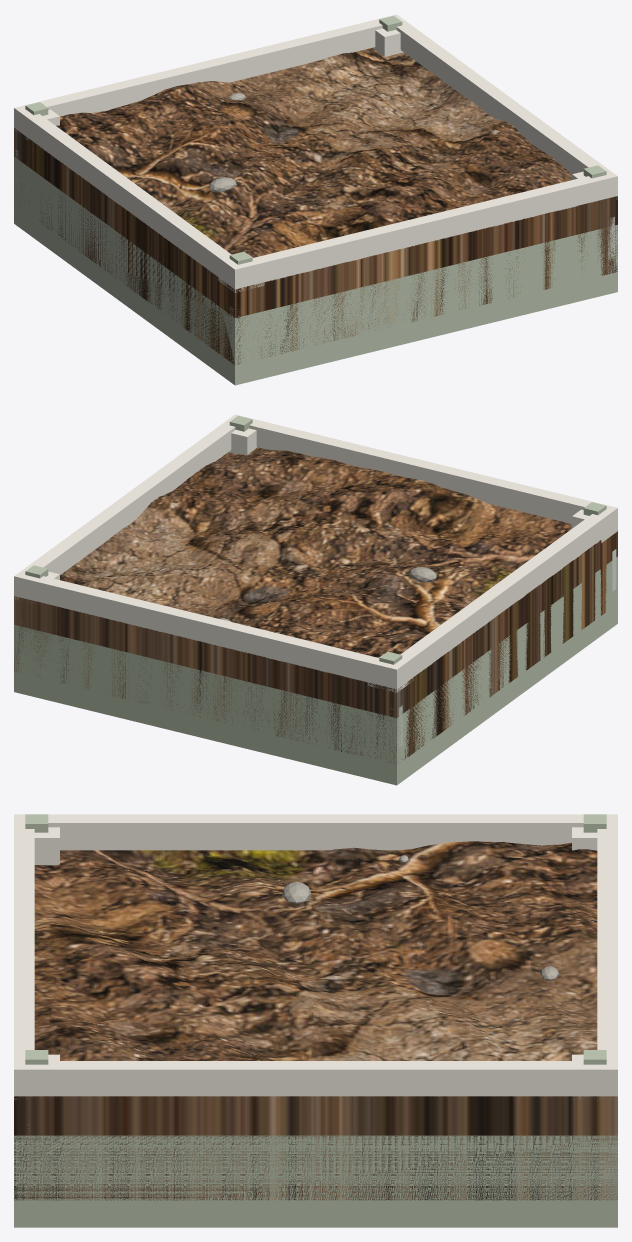
The model's file is s03-untreated-quarter-sw.glb.
3 views of the same model, one above another, from view 1: azimuth 30°, elevation 25°; view 2: azimuth 150°, elevation 25°; view 3: azimuth 270°, elevation 25° (orthographic). The views are drawn at different scales.
Parts seen in each view (by area): view 1: S03_Physical_Untreated_Soil_Top_RealRelief, S03_Frame_Sage_Solid_Bottom, S03_Cream_Rim_N, S03_Cream_Rim_S, S03_Cream_Rim_W, S03_Cream_Rim_E, S03_Cream_Protective_Corner_1_0; view 2: S03_Physical_Untreated_Soil_Top_RealRelief, S03_Frame_Sage_Solid_Bottom, S03_Cream_Rim_S, S03_Cream_Rim_N, S03_Cream_Rim_W, S03_Cream_Rim_E, S03_Cream_Protective_Corner_1_1, S03_Cream_Protective_Corner_0_1; view 3: S03_Physical_Untreated_Soil_Top_RealRelief, S03_Frame_Sage_Solid_Bottom, S03_Cream_Rim_E, S03_Cream_Rim_W, S03_Cream_Rim_S, S03_Cream_Rim_N, S03_Cream_Protective_Corner_0_1.
Boxes of the visible parts, x1=… form: S03_Physical_Untreated_Soil_Top_RealRelief: x1=14, y1=48, x2=617, y2=364; S03_Frame_Sage_Solid_Bottom: x1=14, y1=156, x2=617, y2=385; S03_Cream_Rim_N: x1=227, y1=173, x2=617, y2=289; S03_Cream_Rim_S: x1=14, y1=14, x2=403, y2=132; S03_Cream_Rim_W: x1=14, y1=105, x2=247, y2=288; S03_Cream_Rim_E: x1=384, y1=15, x2=617, y2=198; S03_Cream_Protective_Corner_1_0: x1=373, y1=28, x2=403, y2=56; S03_Physical_Untreated_Soil_Top_RealRelief: x1=14, y1=447, x2=617, y2=764; S03_Frame_Sage_Solid_Bottom: x1=14, y1=556, x2=617, y2=785; S03_Cream_Rim_S: x1=14, y1=574, x2=404, y2=689; S03_Cream_Rim_N: x1=228, y1=414, x2=617, y2=527; S03_Cream_Rim_W: x1=384, y1=505, x2=617, y2=688; S03_Cream_Rim_E: x1=14, y1=415, x2=245, y2=598; S03_Cream_Protective_Corner_1_1: x1=228, y1=428, x2=256, y2=454; S03_Cream_Protective_Corner_0_1: x1=572, y1=509, x2=617, y2=542; S03_Physical_Untreated_Soil_Top_RealRelief: x1=14, y1=841, x2=617, y2=1200; S03_Frame_Sage_Solid_Bottom: x1=14, y1=1135, x2=617, y2=1227; S03_Cream_Rim_E: x1=14, y1=1061, x2=617, y2=1096; S03_Cream_Rim_W: x1=14, y1=814, x2=617, y2=850; S03_Cream_Rim_S: x1=597, y1=814, x2=617, y2=1096; S03_Cream_Rim_N: x1=14, y1=814, x2=34, y2=1096; S03_Cream_Protective_Corner_0_1: x1=34, y1=827, x2=59, y2=865.
Bounding box in the file's own units: 0.5 × 0.149 × 0.5.
7 materials, 1 textured.
